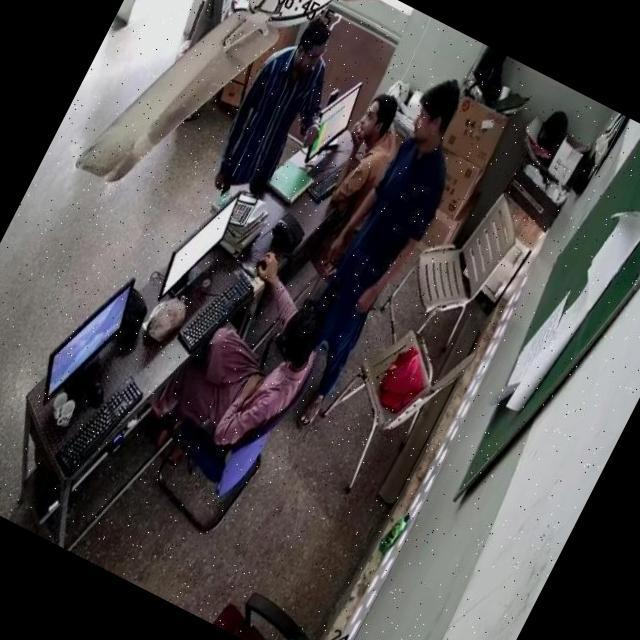person: (292, 85, 484, 388), (188, 281, 336, 450), (217, 18, 337, 192), (314, 98, 408, 234)
